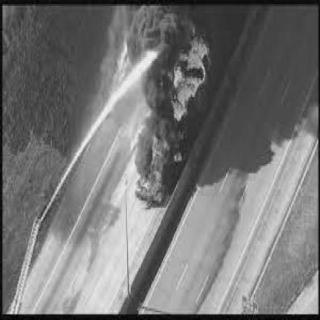Fire: (187, 15, 210, 91)
